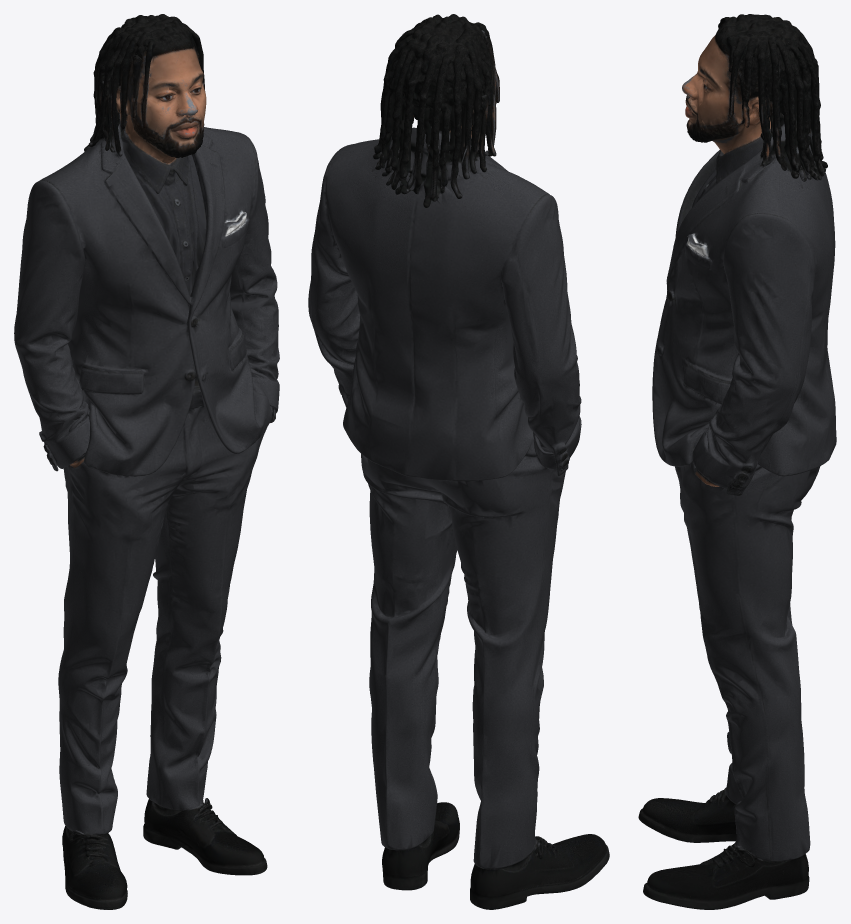
File: marquis-v12.glb
3 renders of one model, left to right at view 1: azimuth 30°, elevation 25°; view 2: azimuth 150°, elevation 25°; view 3: azimuth 270°, elevation 25°, orthographic. The views are drawn at different scales.
Visible parts, largest first — view 1: mesh_node; view 2: mesh_node; view 3: mesh_node.
Part boxes in pixels (x1,y1,x2,y2): mesh_node: (14,14,279,909); mesh_node: (308,14,609,909); mesh_node: (638,14,836,909).
Size of the model in its own units: 0.6007 by 1.9 by 0.3984.
Materials: 1 (1 with a texture image).
